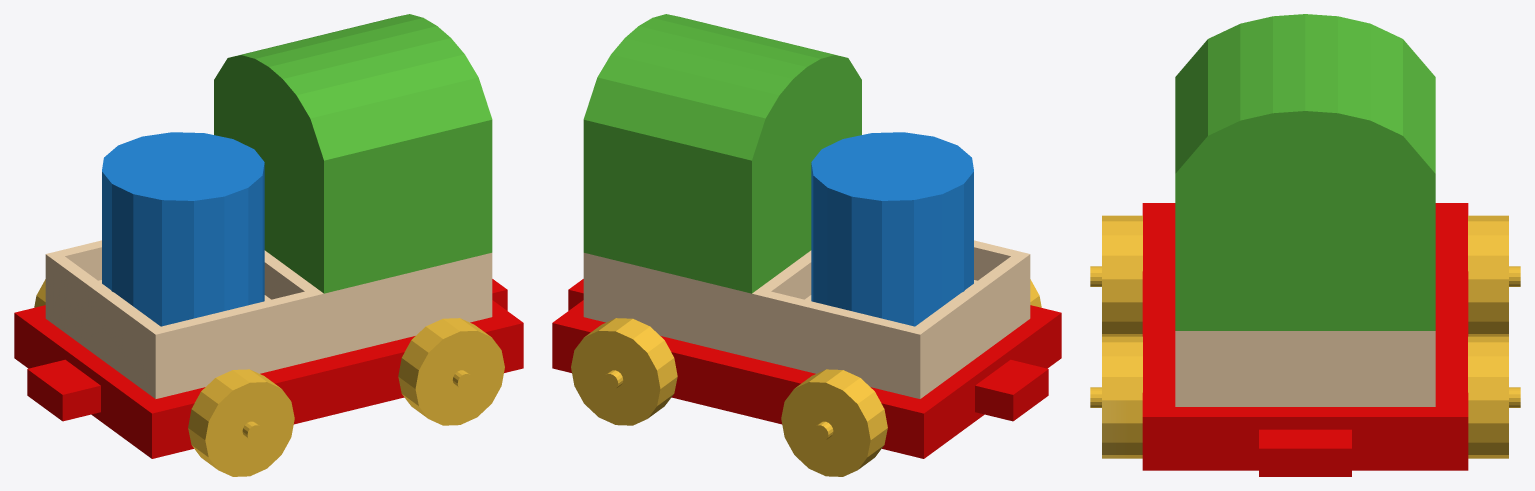
File: Prop_ToyTrain_04.fbx
The picture shows the model from 3 angles, left to right: view 1: azimuth 30°, elevation 25°; view 2: azimuth 150°, elevation 25°; view 3: azimuth 270°, elevation 25°; orthographic projection. The views are drawn at different scales.
Visible parts, largest first — view 1: Prop_ToyTrain_04; view 2: Prop_ToyTrain_04; view 3: Prop_ToyTrain_04.
Part boxes in pixels (box(x1,y1,x2,y2)): Prop_ToyTrain_04: box(14, 14, 523, 476); Prop_ToyTrain_04: box(552, 14, 1061, 476); Prop_ToyTrain_04: box(1090, 14, 1520, 476).
Size of the model in its own units: 37.61 by 26.02 by 26.82.
